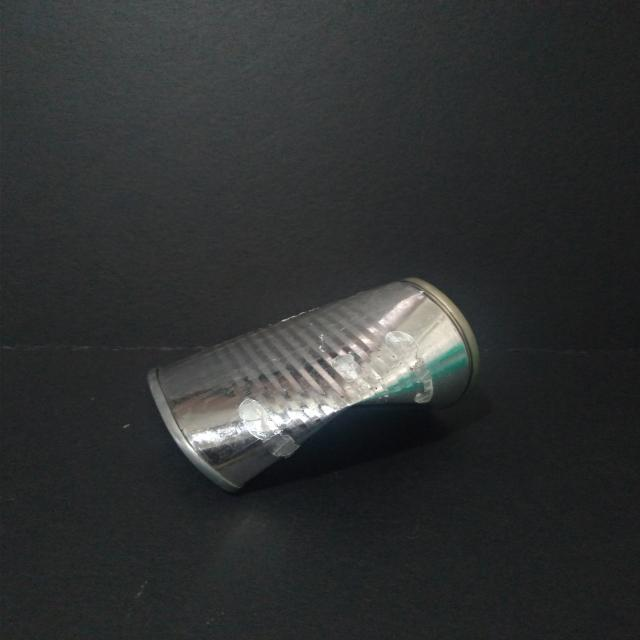metal-can: (145, 275, 487, 495)
